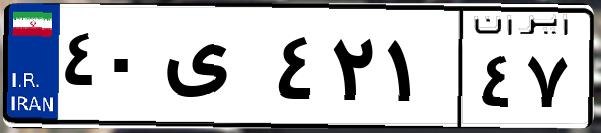0: (110, 28, 158, 98)
1: (385, 28, 445, 110)
2: (330, 28, 385, 110)
4: (270, 28, 330, 110), (57, 26, 110, 100), (475, 38, 525, 113)
7: (525, 38, 570, 115)
ی: (158, 20, 270, 120)
